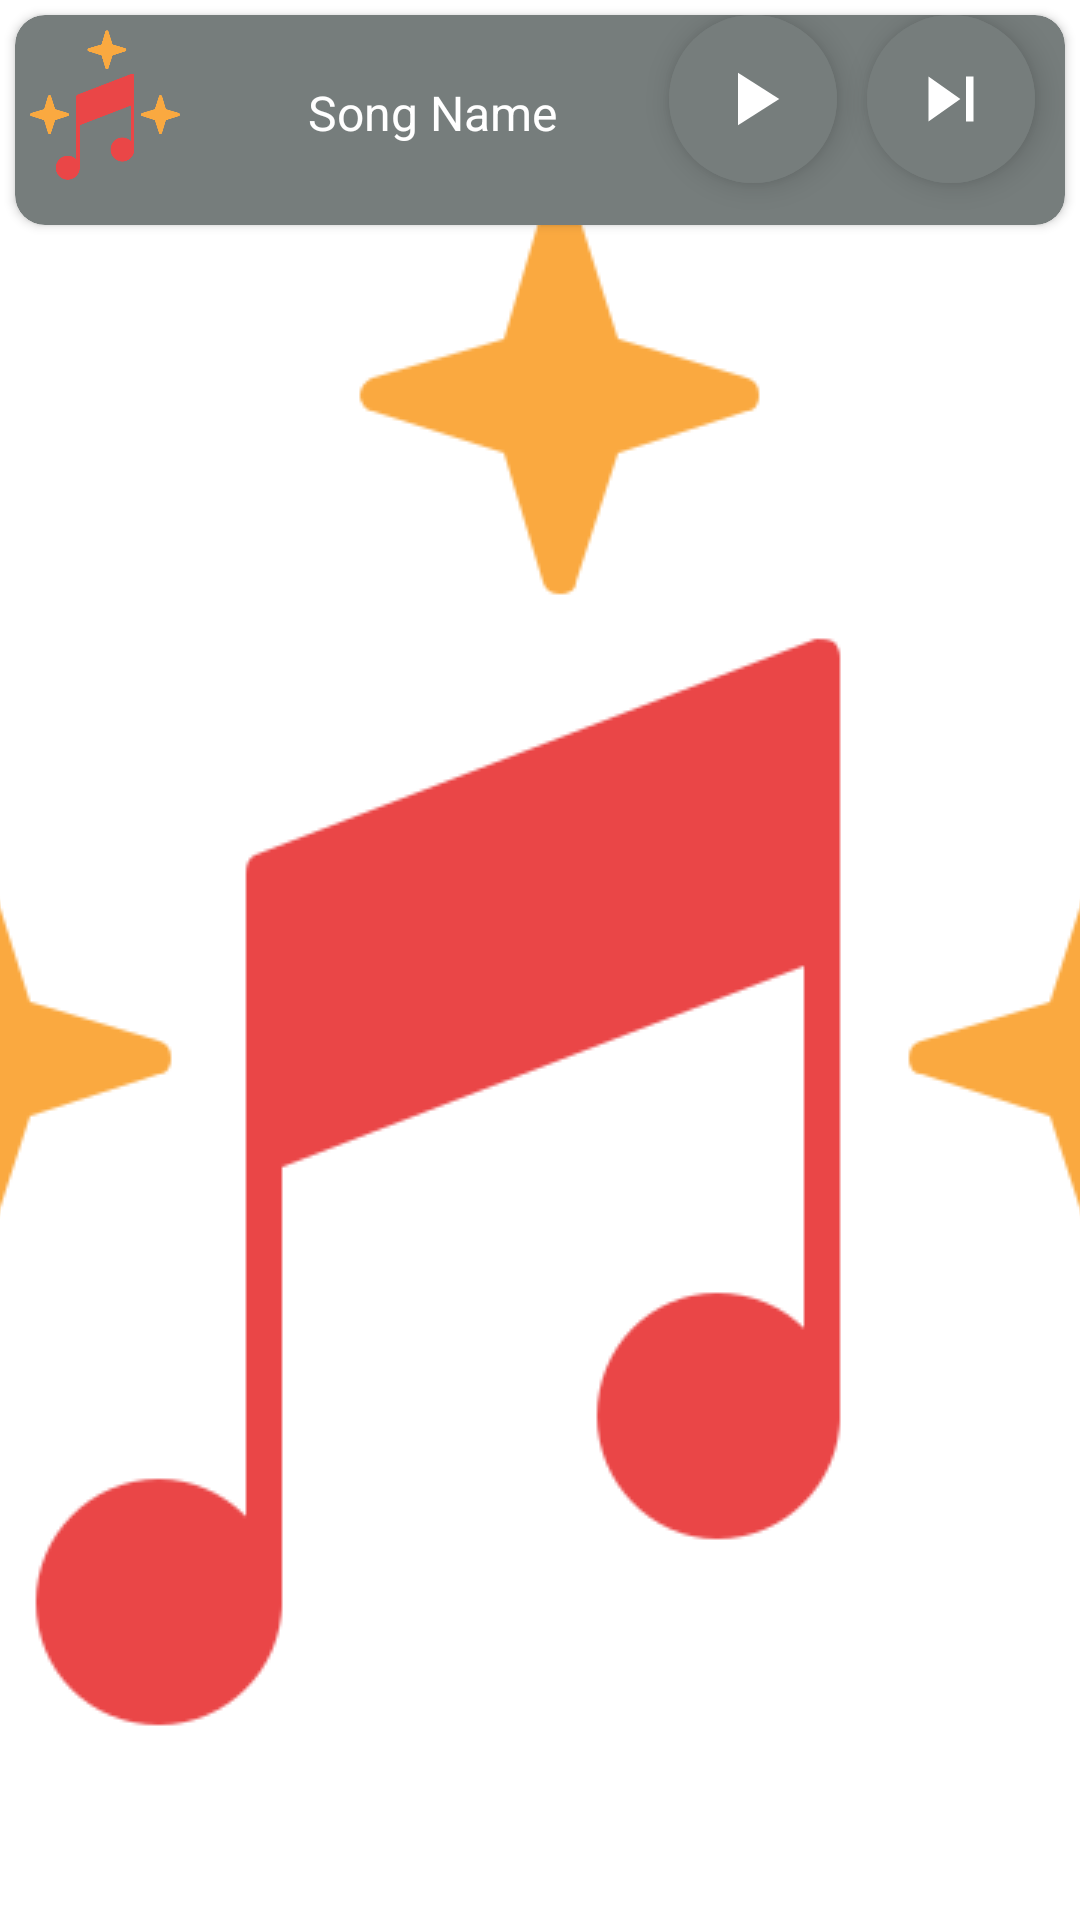

Where to tap for icons on this 1080×1920 app screen, as (x=x, y=y):
play arrow: (x=758, y=99)
skip next: (x=951, y=99)
